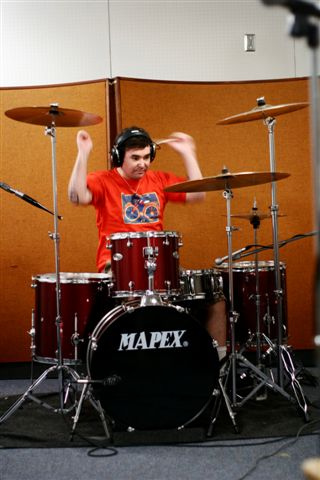person: (68, 127, 209, 276)
